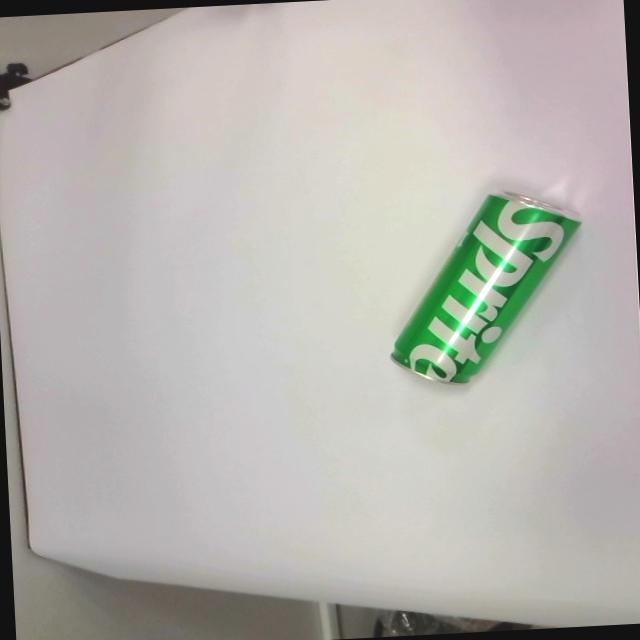debris: (380, 185, 590, 388)
